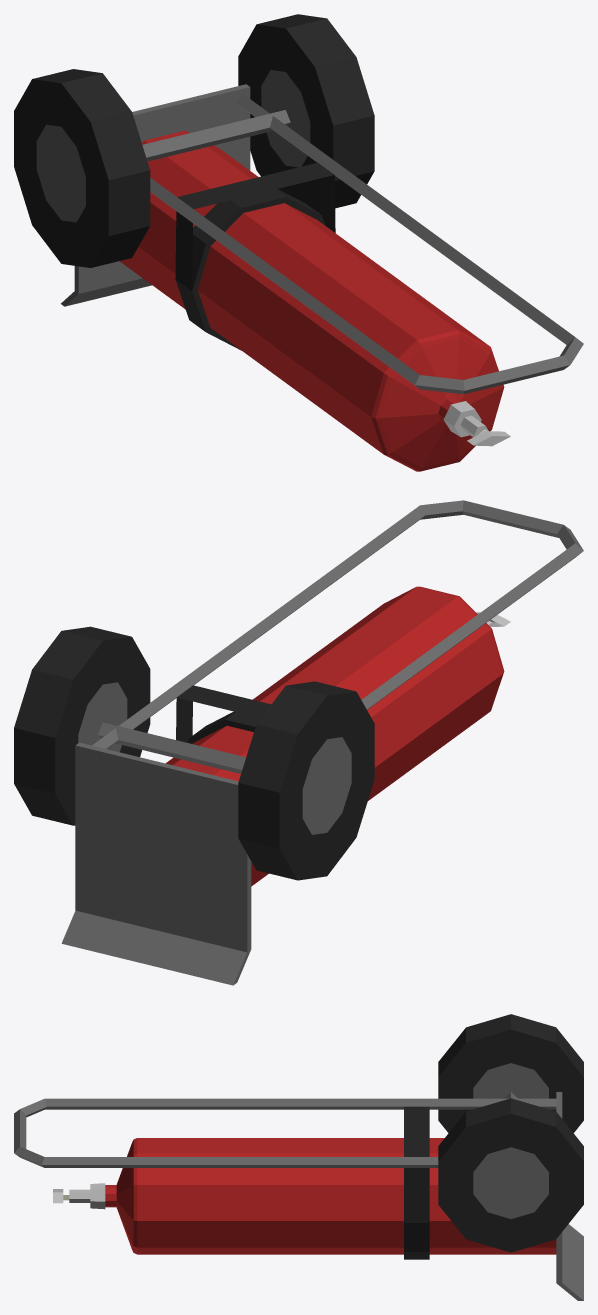
The picture shows the model from 3 angles, top to bottom: view 1: azimuth 30°, elevation 25°; view 2: azimuth 150°, elevation 25°; view 3: azimuth 270°, elevation 25°; orthographic projection. The views are drawn at different scales.
Visible parts, largest first — view 1: wheeled fire extinguisher; view 2: wheeled fire extinguisher; view 3: wheeled fire extinguisher.
Boxes of the visible parts, left/top/right/bottom form: wheeled fire extinguisher: left=14, top=14, right=583, bottom=471; wheeled fire extinguisher: left=14, top=500, right=583, bottom=985; wheeled fire extinguisher: left=14, top=1014, right=583, bottom=1300.
Size of the model in its own units: 19.25 by 18.45 by 46.51.
